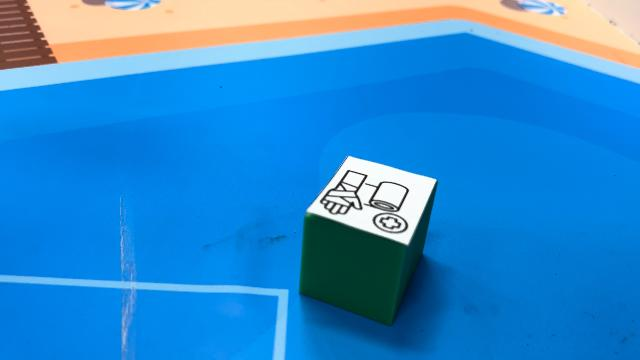bandage: (298, 154, 438, 325)
